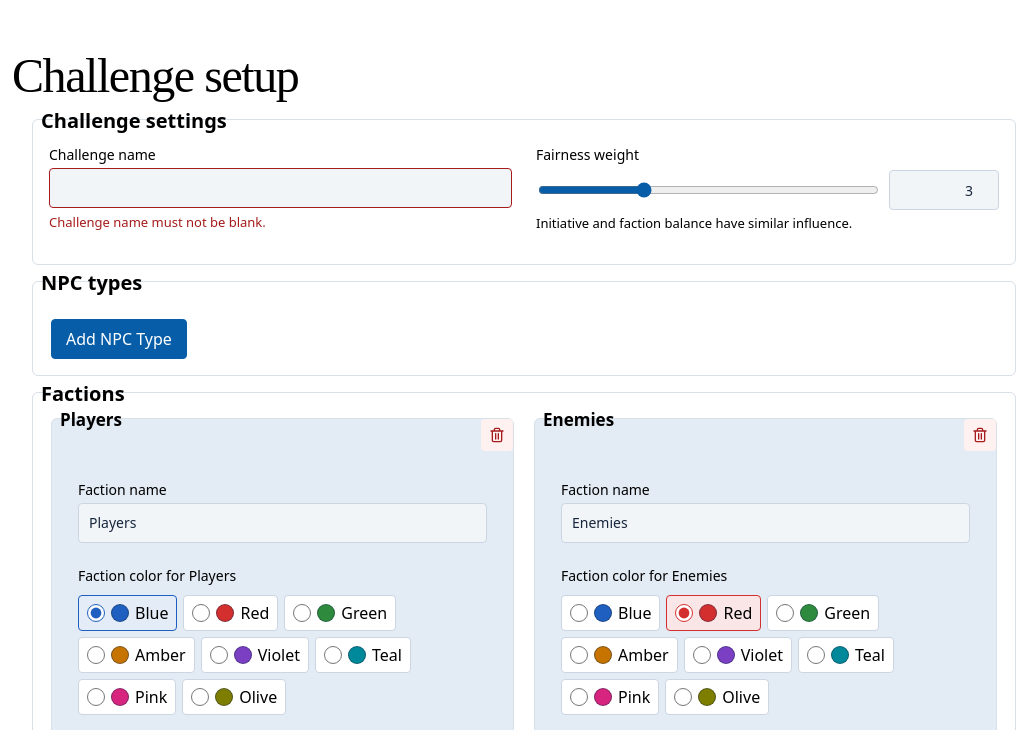
Test: new challenge setup › wraps named form groups in cards
Expected: the heading "Challenge setup" is shown, [12,49,298,102]
Expected: the heading "Challenge settings" is shown, [33,109,235,133]
Click the button "Add NPC Type" at (119, 339), box [51,319,187,359]
(page scrolled)
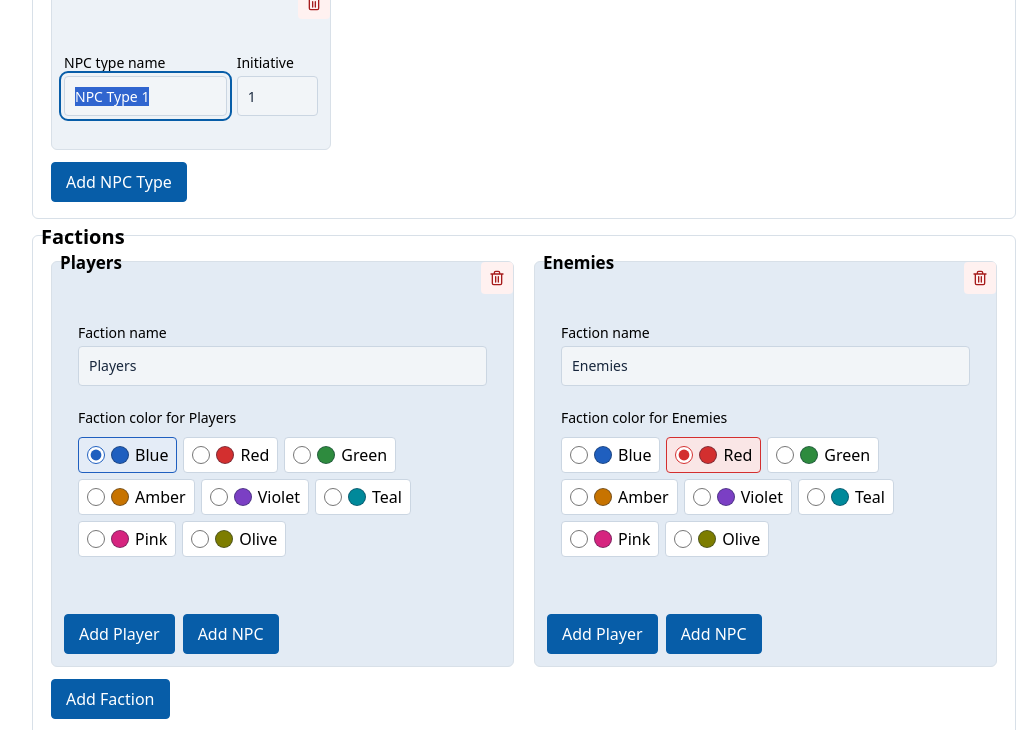
Expected: the heading "Factions" is shown, [41,223,125,250]
Expected: the heading "Players" is shown, [60,251,122,274]
Click the button "Add Player" below "Faction color for Players" at (119, 634), box [64,614,175,654]
(page scrolled)
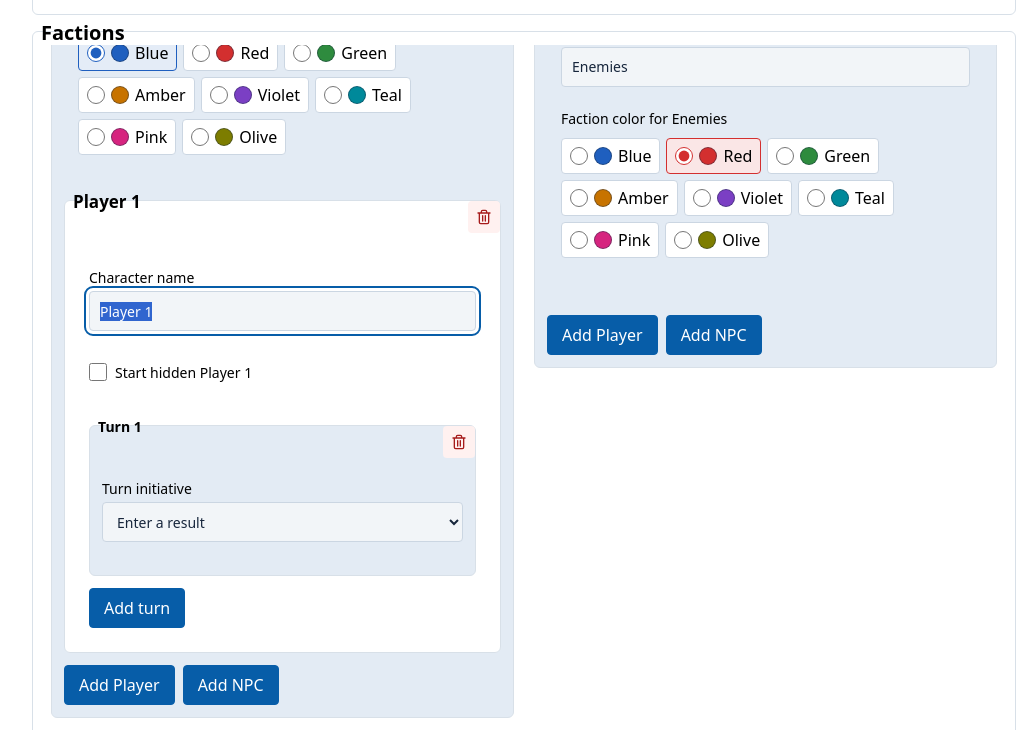
Now the heading "Player 1" is shown, box [73,190,141,213]
Now the heading "Turn 1" is shown, box [98,417,142,436]
